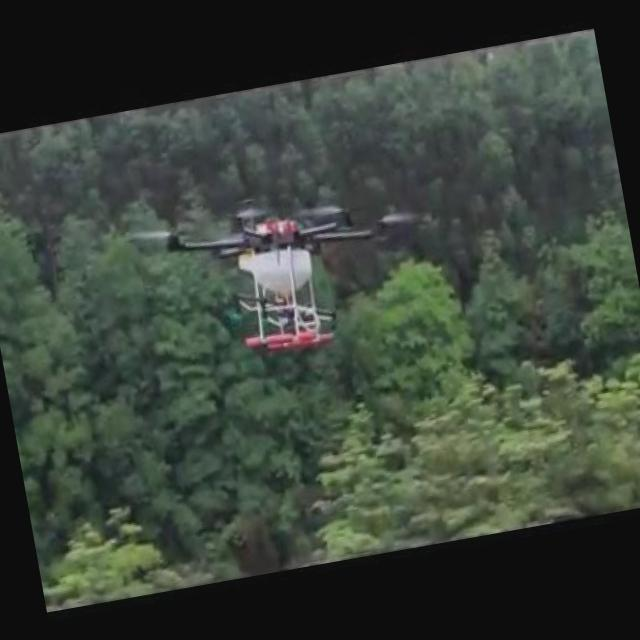drone: (134, 173, 436, 376)
